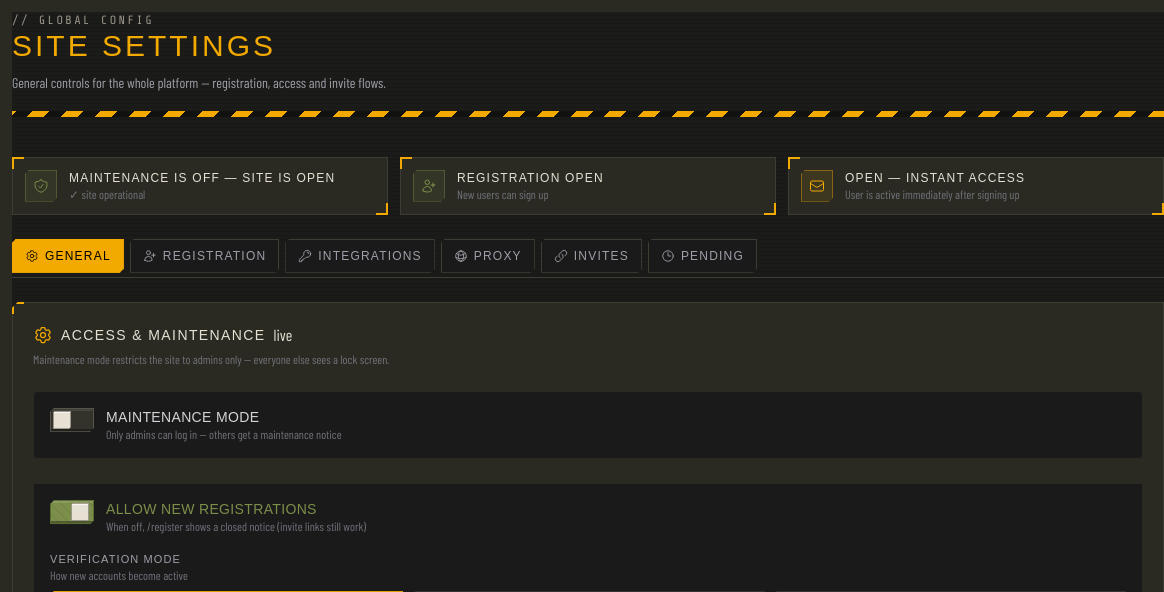
Test: GlobalSettingsForm status strip › flips the maintenance strip and reveals the lock warning
Check: the text "Maintenance is OFF — site is open" is shown, box x1=69 y1=170 x2=335 y2=186
Click the switch named "Maintenance mode".
click(72, 420)  # box x1=50 y1=408 x2=94 y2=432
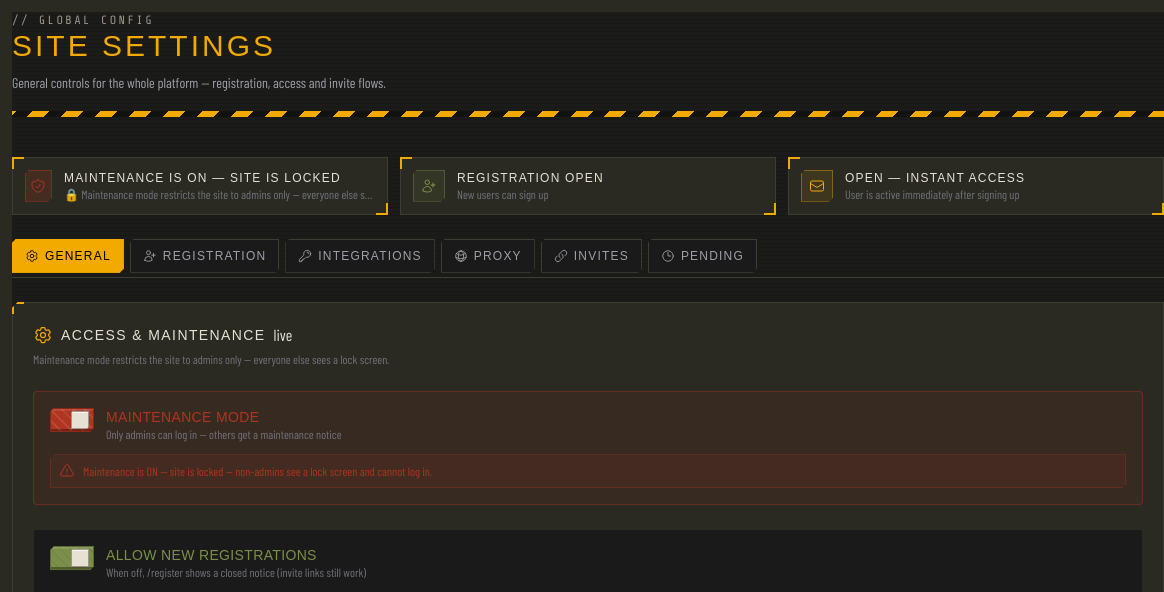
Check: the text "Maintenance is ON — site is locked" is shown, box x1=64 y1=170 x2=375 y2=186
Check: the text "Maintenance is OFF — site is open" is gone
